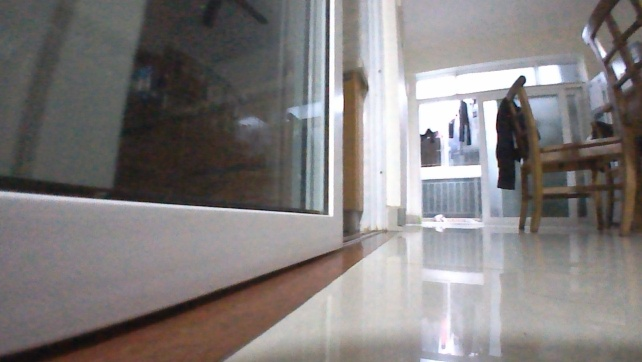dining_table1: (500, 0, 641, 237)
